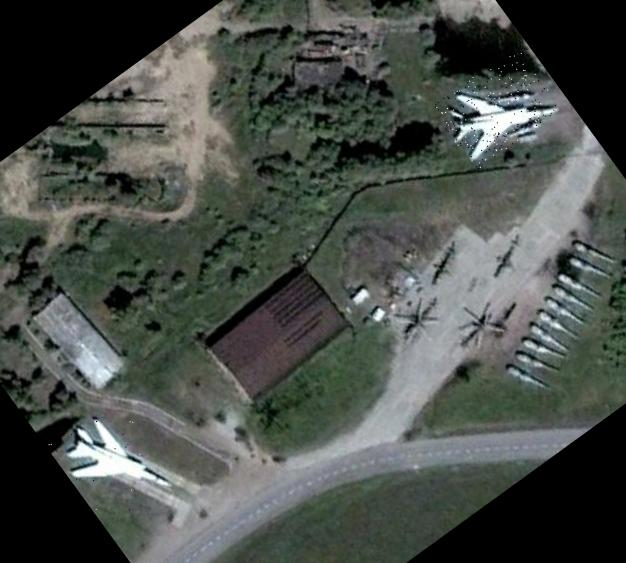A12: (47, 394, 180, 532), (429, 45, 562, 170)
